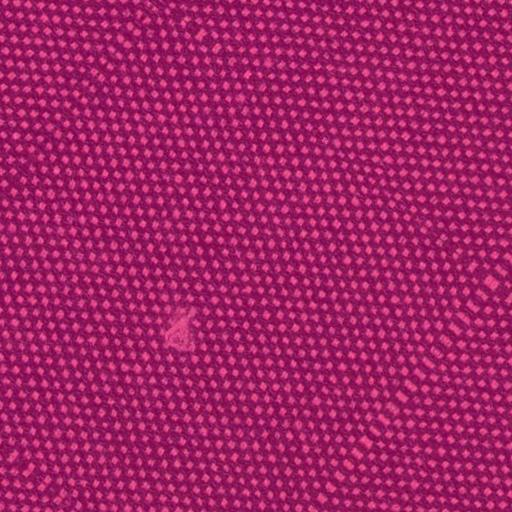knot: (153, 303, 208, 362)
